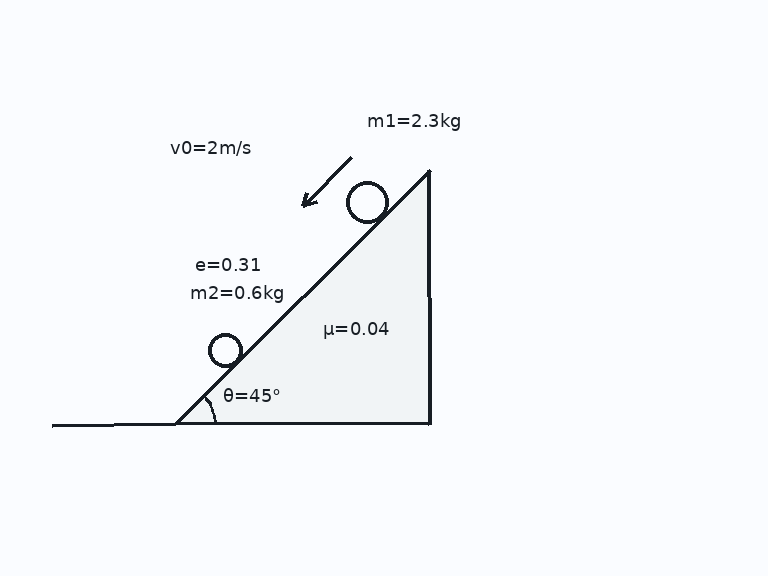ball: (344, 179, 390, 225), (206, 331, 244, 369)
ramp: (173, 168, 431, 426)
